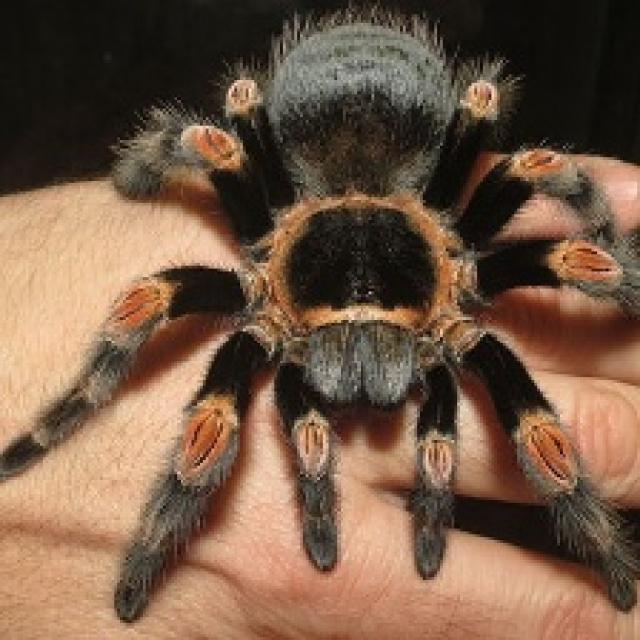Non venomous spider: (22, 77, 625, 602)
